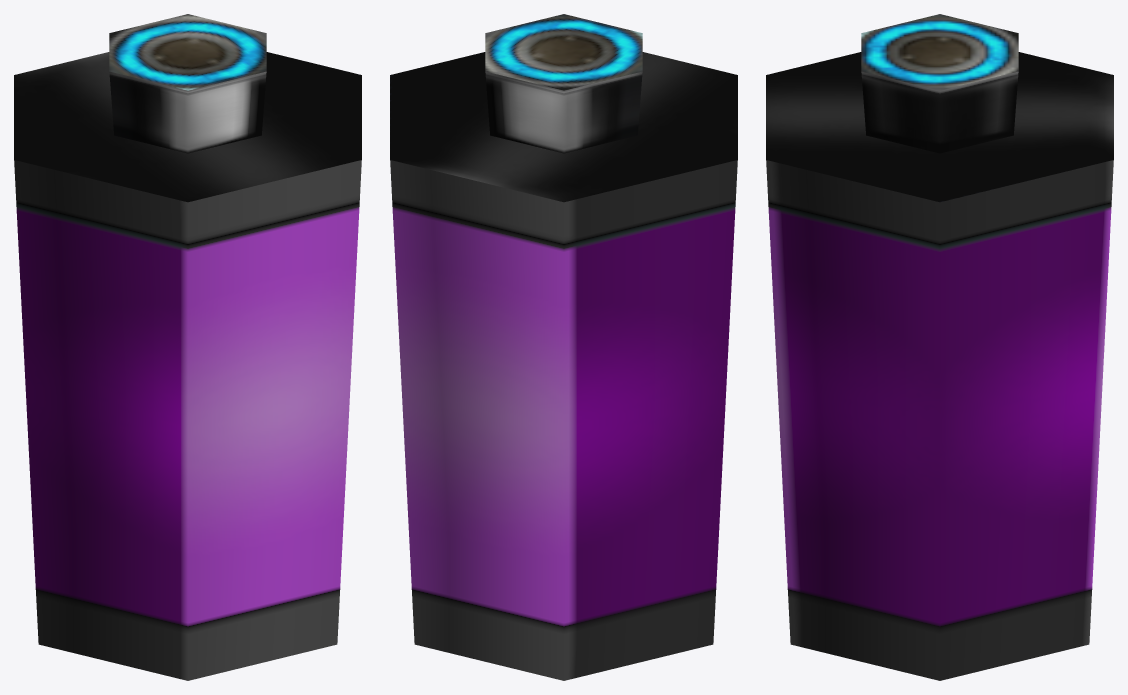
File: battery.FBX
3 renders of one model, left to right at view 1: azimuth 30°, elevation 25°; view 2: azimuth 150°, elevation 25°; view 3: azimuth 270°, elevation 25°, orthographic.
Parts seen in each view (by area): view 1: battery; view 2: battery; view 3: battery.
Part boxes in pixels (x1,y1,x2,y2): battery: [14, 14, 361, 680]; battery: [390, 14, 737, 680]; battery: [766, 14, 1113, 680].
Size of the model in its own units: 0.2238 by 0.3418 by 0.1938.
